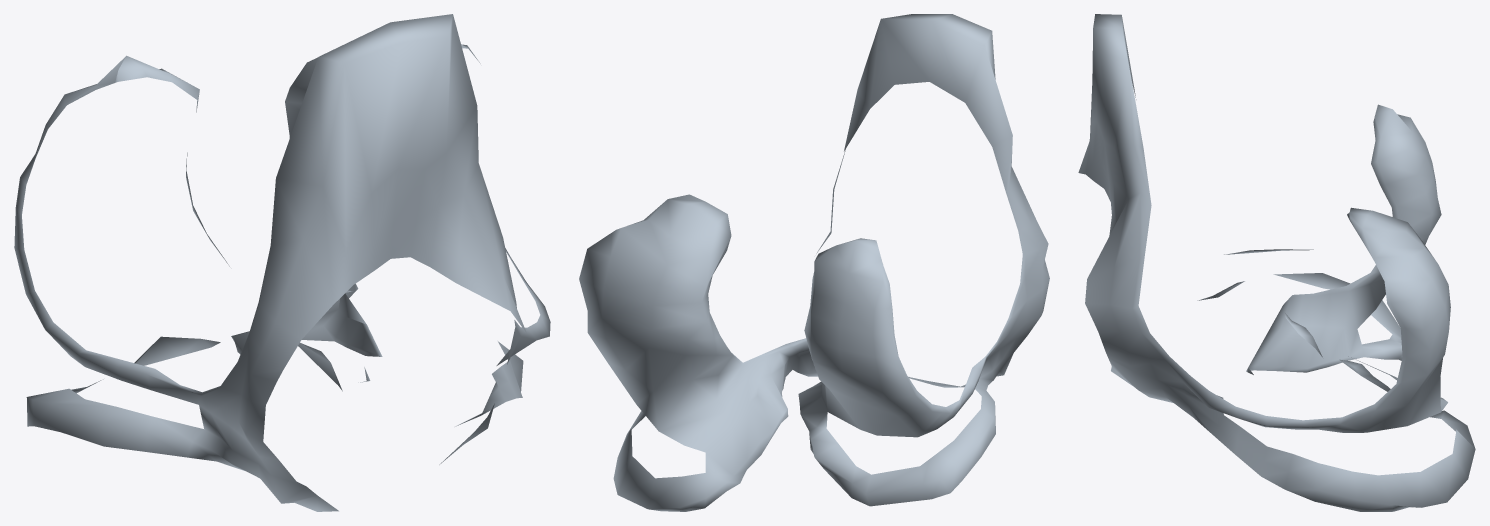
The model's file is articular-capsule-of-knee-joint-r.glb.
The picture shows the model from 3 angles, left to right: view 1: azimuth 30°, elevation 25°; view 2: azimuth 150°, elevation 25°; view 3: azimuth 270°, elevation 25°; orthographic projection. The views are drawn at different scales.
Visible parts, largest first — view 1: Articular capsule of knee joint.r; view 2: Articular capsule of knee joint.r; view 3: Articular capsule of knee joint.r.
Boxes of the visible parts, bbox=[...] form: Articular capsule of knee joint.r: bbox=[14, 14, 550, 511]; Articular capsule of knee joint.r: bbox=[579, 14, 1049, 511]; Articular capsule of knee joint.r: bbox=[1078, 14, 1475, 511].
Bounding box in the file's own units: 0.0803 × 0.0877 × 0.078.
